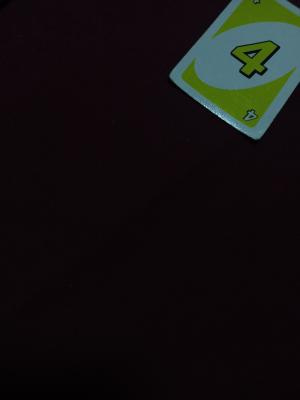num_4: (225, 28, 285, 85)
yellow: (234, 86, 267, 127)
